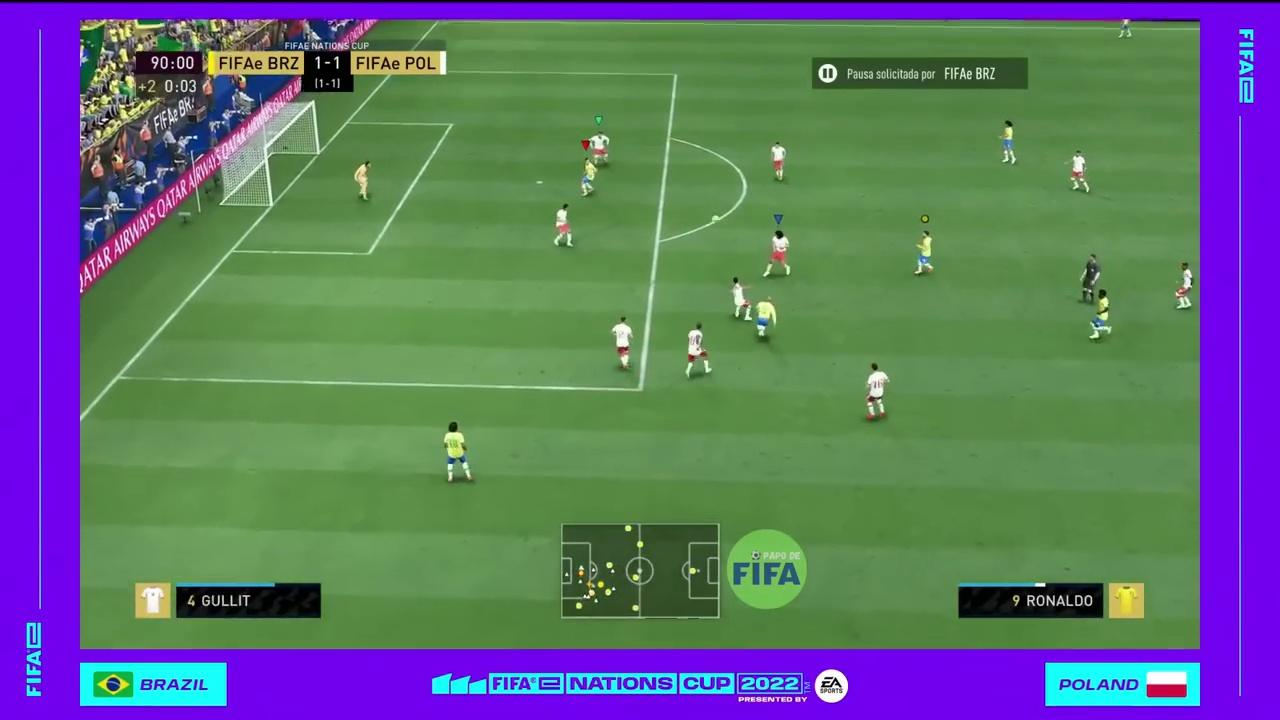scoreboard: (212, 49, 447, 77)
timestamp: (135, 51, 204, 97)
